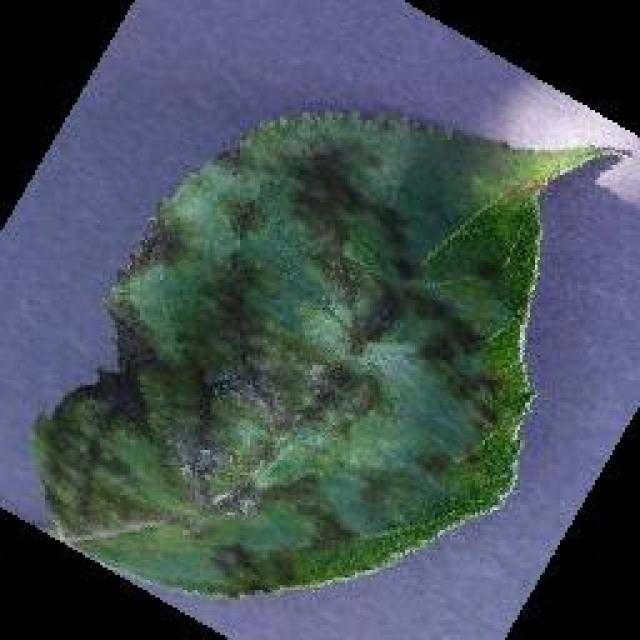apple scab disease: (27, 102, 635, 602)
